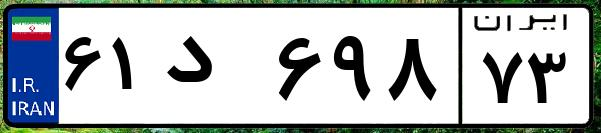1: (110, 28, 158, 98)
3: (525, 38, 570, 115)
6: (270, 28, 330, 110), (57, 26, 110, 100)
7: (475, 38, 525, 113)
8: (385, 28, 445, 110)
9: (330, 28, 385, 110)
د: (158, 20, 270, 120)
